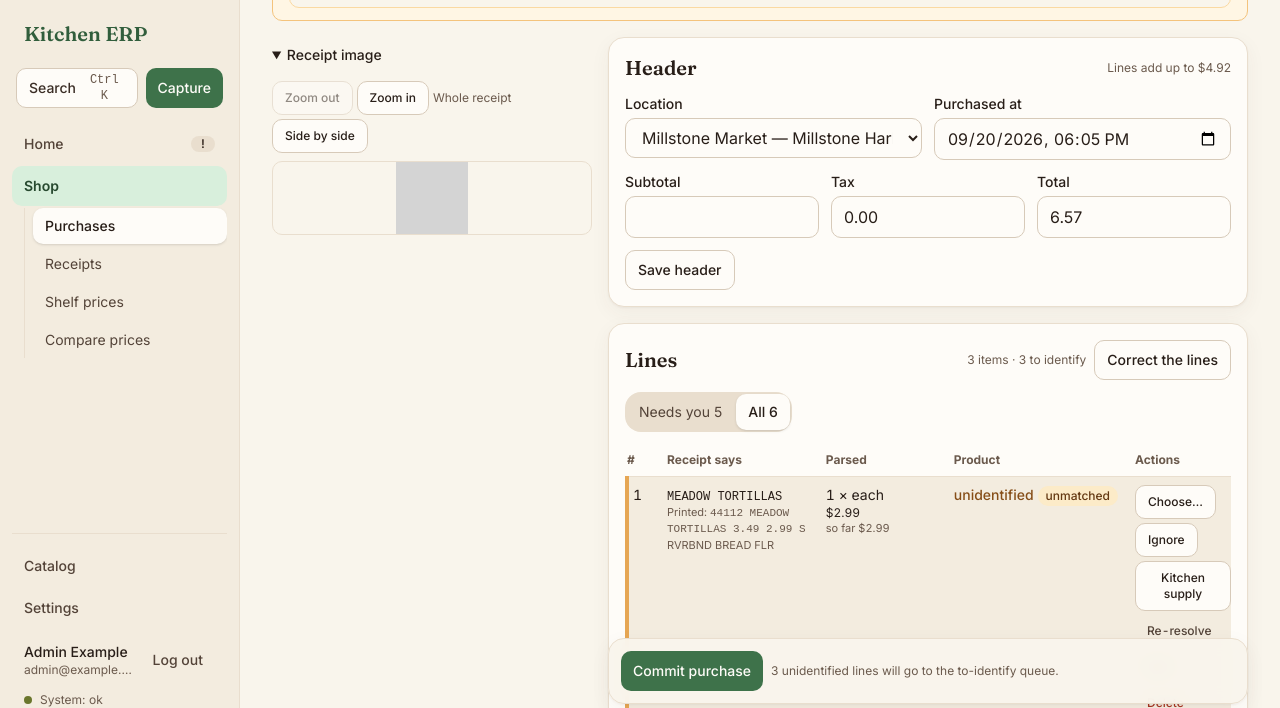
it: correct the lines: room to read each row (2S, U5) › shows the printed row, the saving's item, and a saving kept in the price
The width and height of the screenshot is (1280, 708).
(page scrolled)
What coordinates should you click on to do the following:
click the button "Correct the lines"
I would click on:
 (1163, 360)
Its box is [1094,340,1231,380].
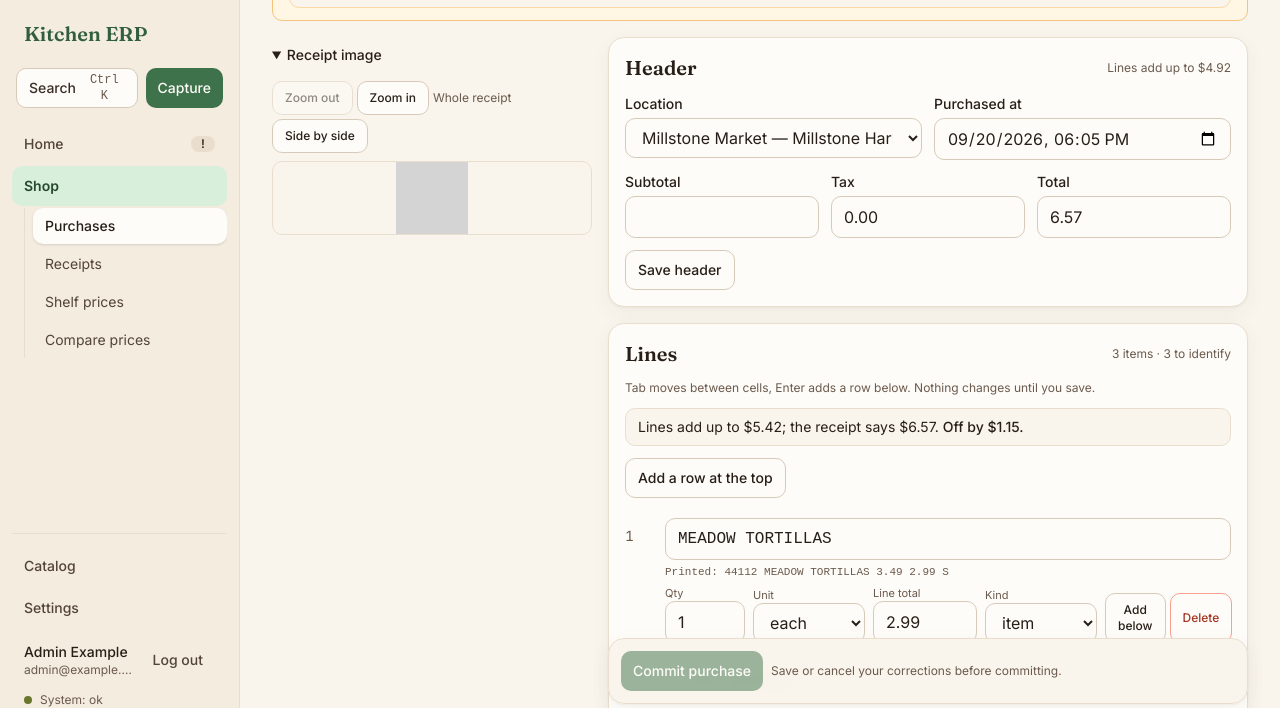
expect the text "Printed: 44112 MEADOW TORTILLAS 3.49 2.99 S" is shown: met, box [625,510,1231,652]
expect the field named "Receipt text, row 2" holds "Club Savings": met, box [665,660,1231,702]
